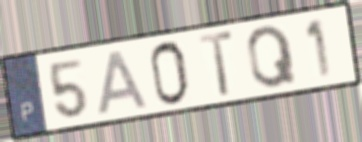0: (147, 39, 191, 107)
1: (302, 16, 333, 81)
5: (45, 55, 92, 119)
A: (96, 48, 152, 117)
Q: (245, 23, 299, 91)
T: (197, 28, 236, 99)
